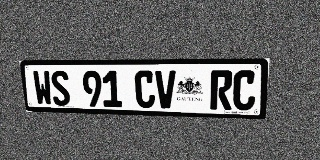1: (101, 70, 122, 107)
9: (82, 70, 103, 107)
C: (232, 70, 257, 111), (134, 70, 155, 108)
R: (210, 70, 233, 110)
S: (50, 71, 71, 106)
V: (155, 70, 176, 109)
W: (32, 71, 53, 106)
